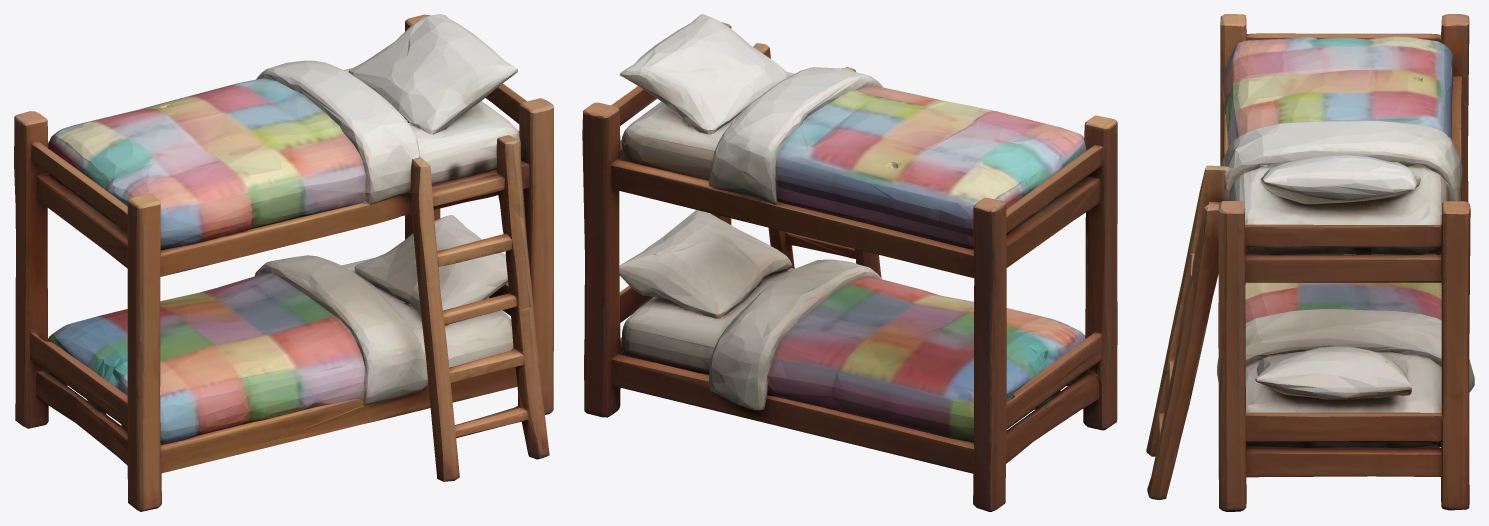
The model's file is bunkbed.glb.
The picture shows the model from 3 angles, left to right: view 1: azimuth 30°, elevation 25°; view 2: azimuth 150°, elevation 25°; view 3: azimuth 270°, elevation 25°; orthographic projection. The views are drawn at different scales.
Parts seen in each view (by area): view 1: geometry_0; view 2: geometry_0; view 3: geometry_0.
Part boxes in pixels (<box>): geometry_0: <box>14,14,553,511</box>; geometry_0: <box>582,14,1117,511</box>; geometry_0: <box>1146,14,1474,511</box>.
Bounding box in the file's own units: 0.9958 × 0.7933 × 0.6922.
1 material, 1 textured.
